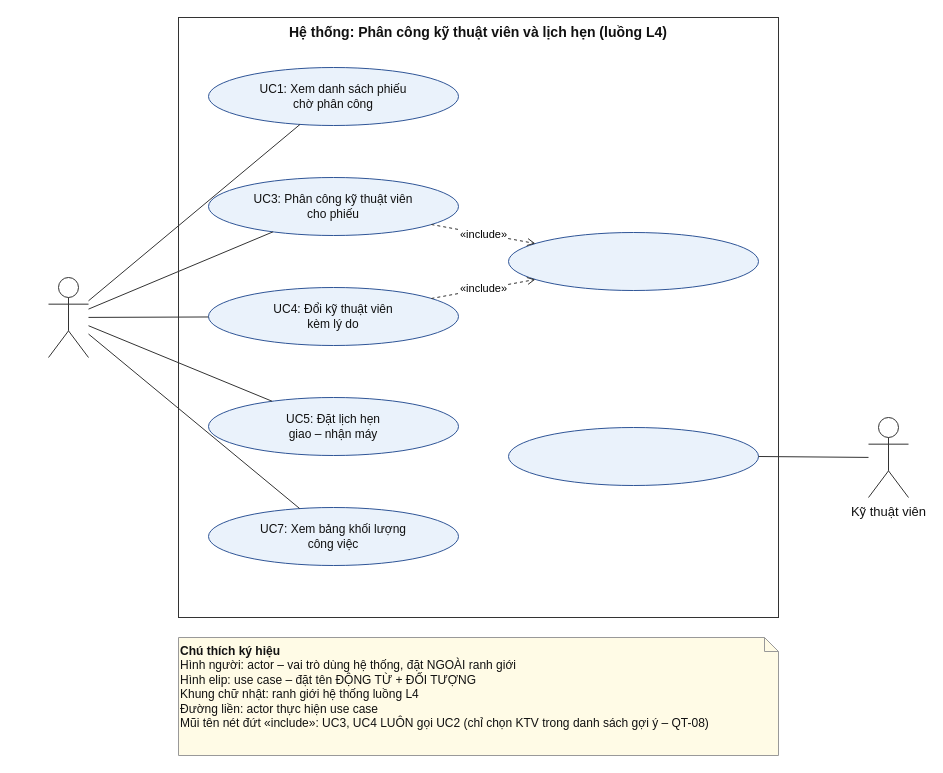
The diagram is 943 pixels wide and 773 high, and some of its shapes have lost their labels. The centre of each missing label's shape, as x and y in pixels:
Quản lý trung tâm: [68,317]
UC2: Xem gợi ý kỹ thuật viên phù hợp: [633,261]
UC6: Xem danh sách phiếu được giao cho tôi: [633,456]
